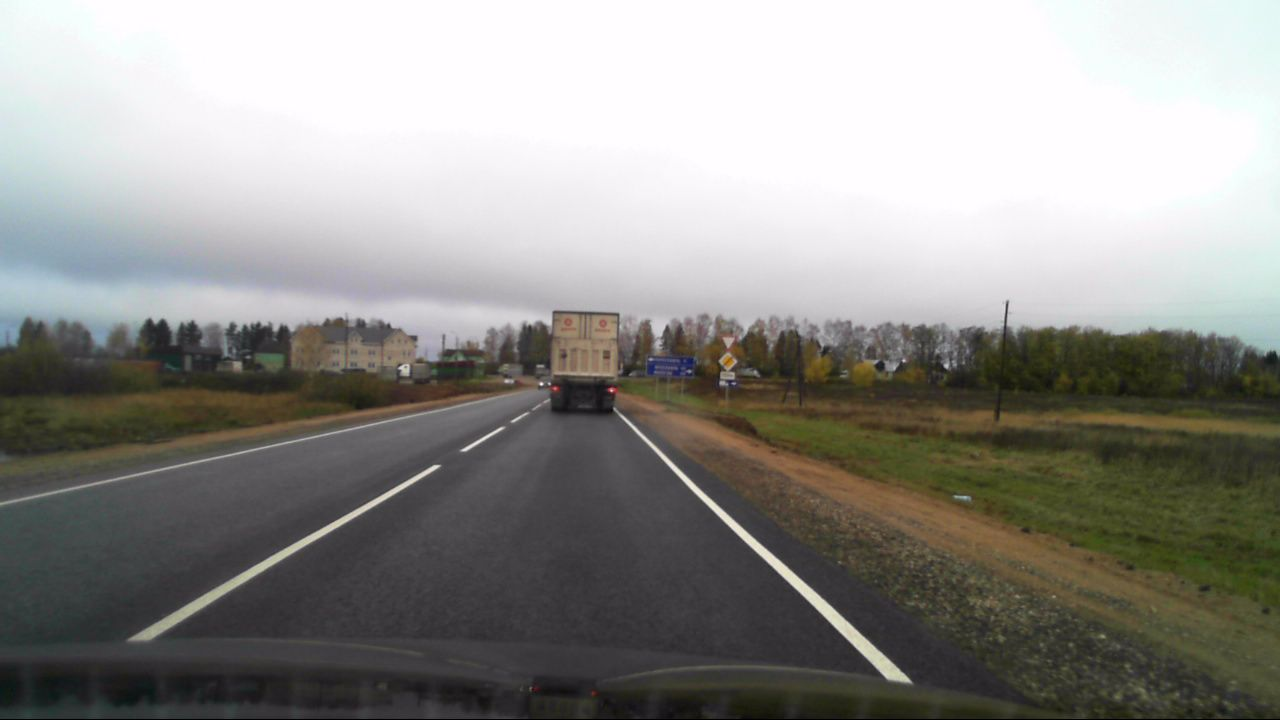main road: (717, 351, 738, 371)
